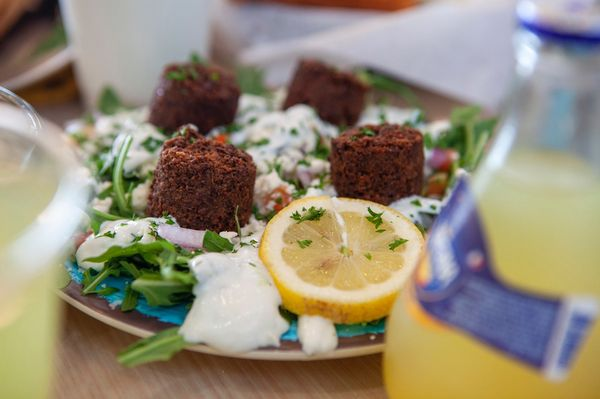pizza: (61, 1, 219, 115)
taco: (257, 195, 425, 326)
